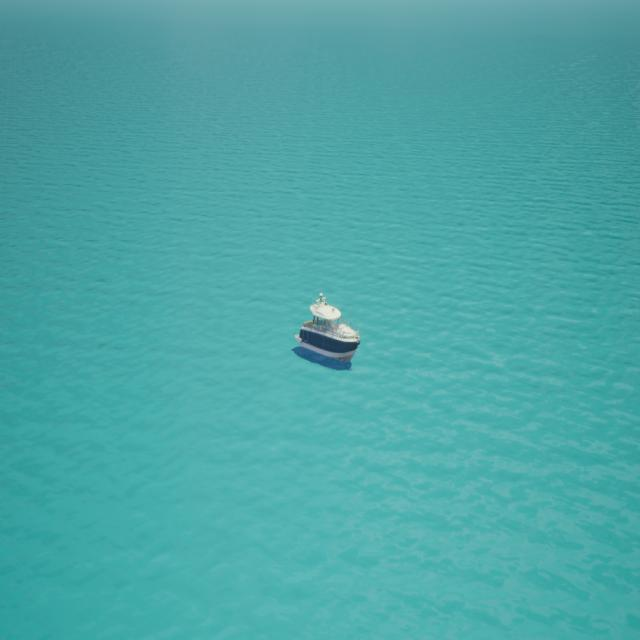ship: (293, 294, 359, 369)
